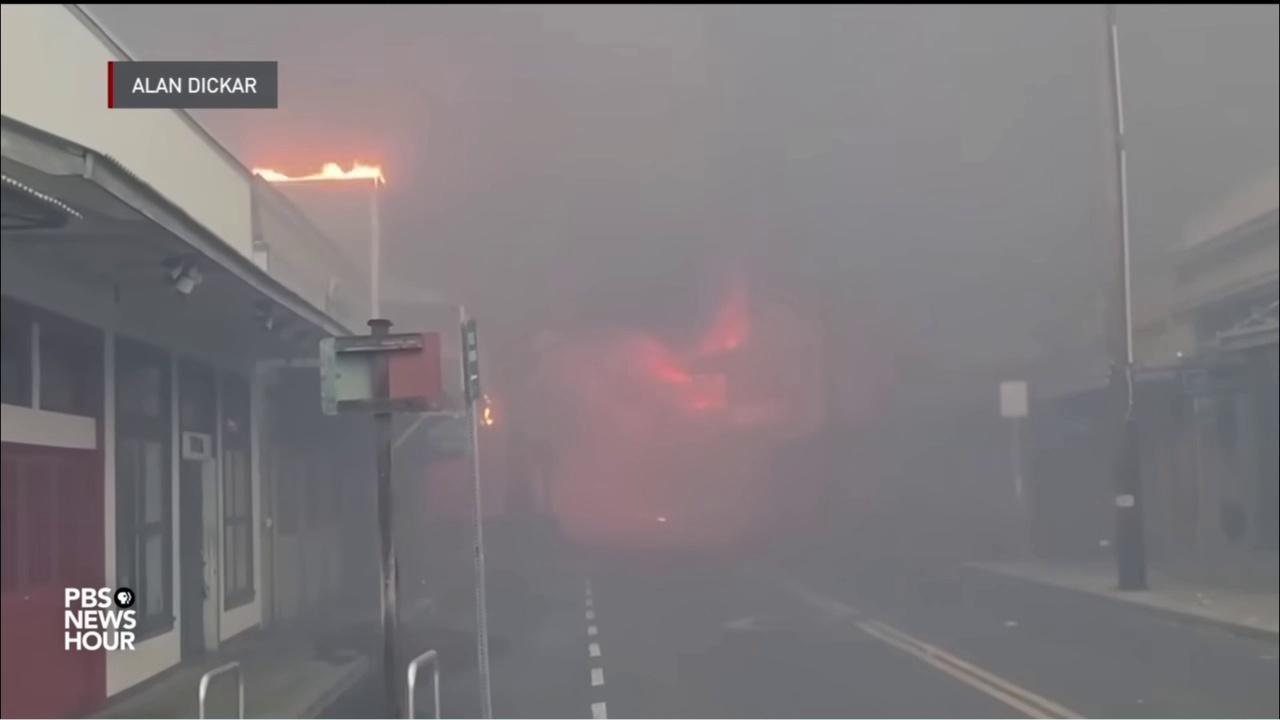fire: (638, 304, 751, 415), (247, 158, 385, 190), (477, 391, 497, 427)
smoke: (1, 4, 1280, 720)
